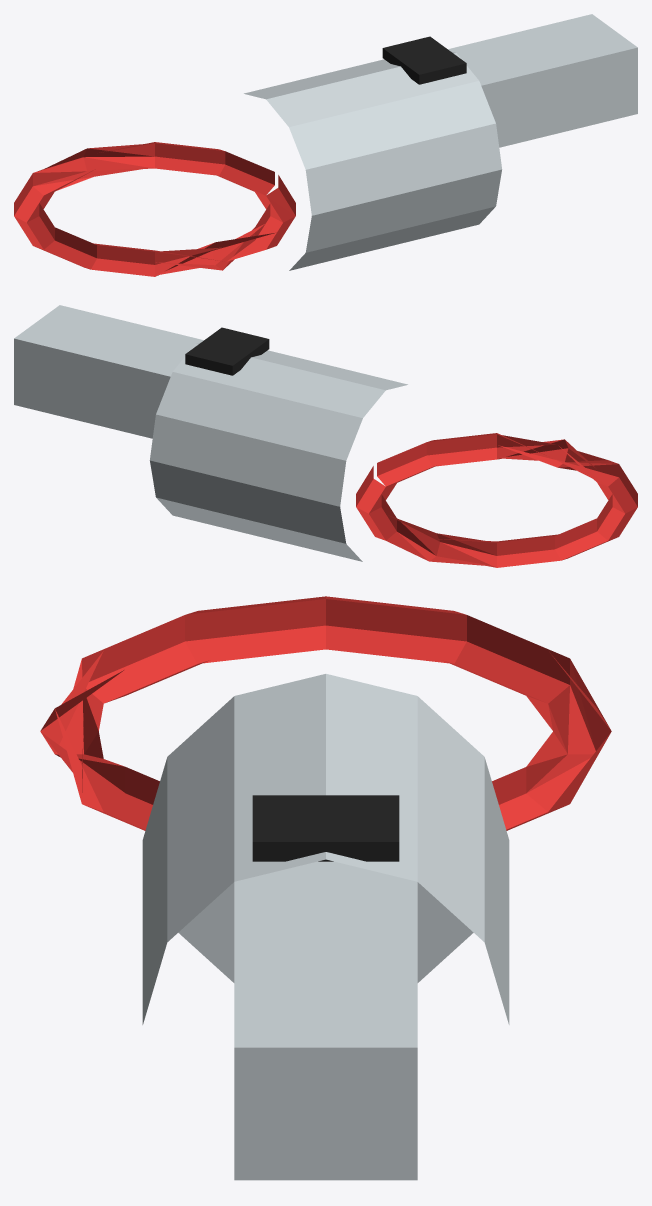
Rendered from visselpipa.glb.
3 views of the same model, one above another, from view 1: azimuth 30°, elevation 25°; view 2: azimuth 150°, elevation 25°; view 3: azimuth 270°, elevation 25° (orthographic). The views are drawn at different scales.
Parts seen in each view (by area): view 1: visselpipa; view 2: visselpipa; view 3: visselpipa.
Part boxes in pixels (x1,y1,x2,y2): visselpipa: [14, 14, 637, 276]; visselpipa: [14, 305, 637, 567]; visselpipa: [40, 596, 611, 1180].
Bounding box in the file's own units: 0.3669 × 0.103 × 0.156.
